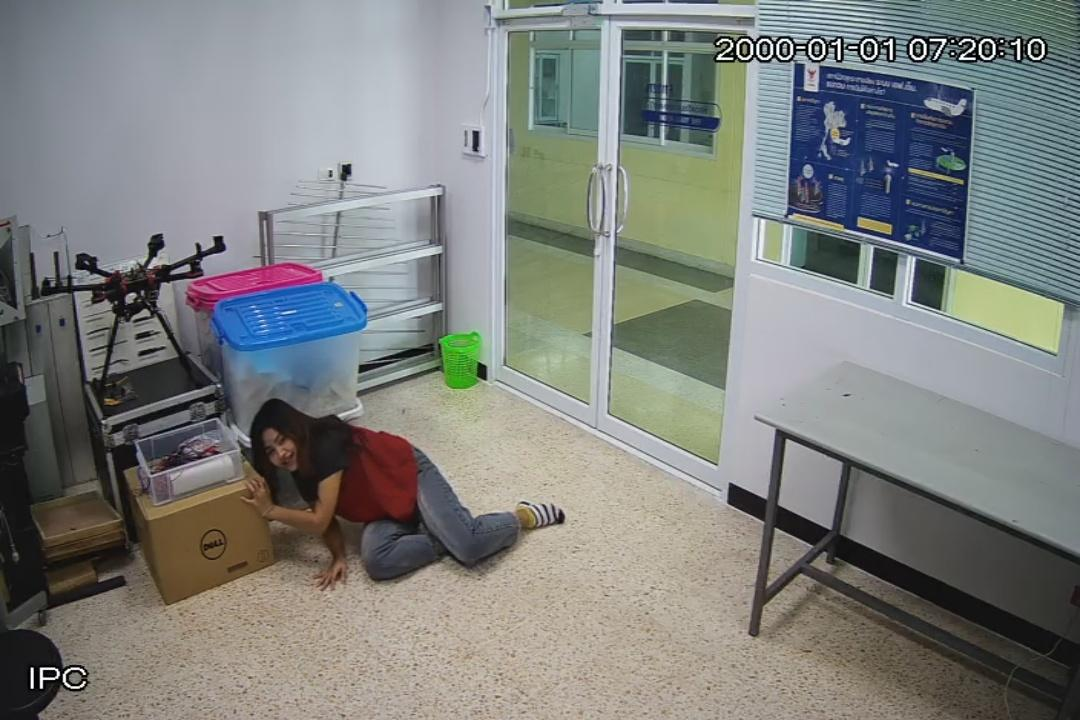fall: (251, 395, 569, 591)
